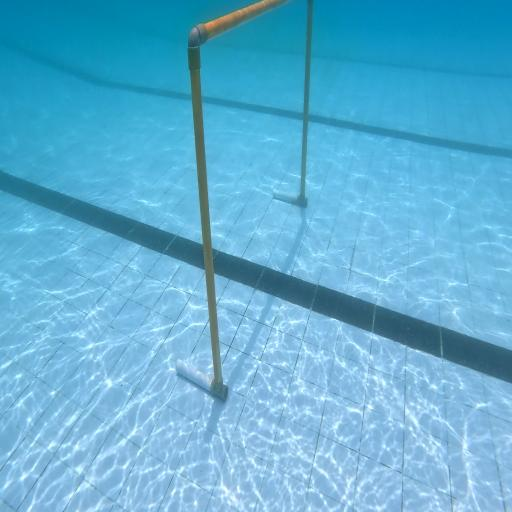gate: (176, 1, 318, 401)
